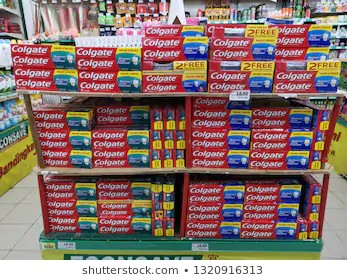colgate-family: (211, 23, 274, 59), (208, 59, 271, 91), (276, 59, 336, 91), (253, 105, 313, 131), (8, 43, 75, 66), (141, 37, 208, 60), (12, 66, 77, 89), (188, 105, 250, 129), (184, 130, 251, 152), (277, 24, 330, 50), (79, 46, 141, 68), (30, 110, 91, 132), (77, 71, 143, 90), (255, 130, 312, 151), (98, 181, 149, 203), (91, 131, 147, 151), (42, 182, 96, 202), (188, 184, 241, 204), (243, 204, 297, 223), (243, 185, 299, 203), (41, 149, 91, 169), (99, 216, 151, 235), (187, 221, 241, 239), (35, 131, 91, 148), (188, 152, 251, 167), (254, 152, 309, 169), (187, 204, 241, 221), (93, 151, 147, 168), (241, 223, 297, 239), (46, 217, 97, 234), (46, 202, 97, 217), (102, 201, 153, 213)
